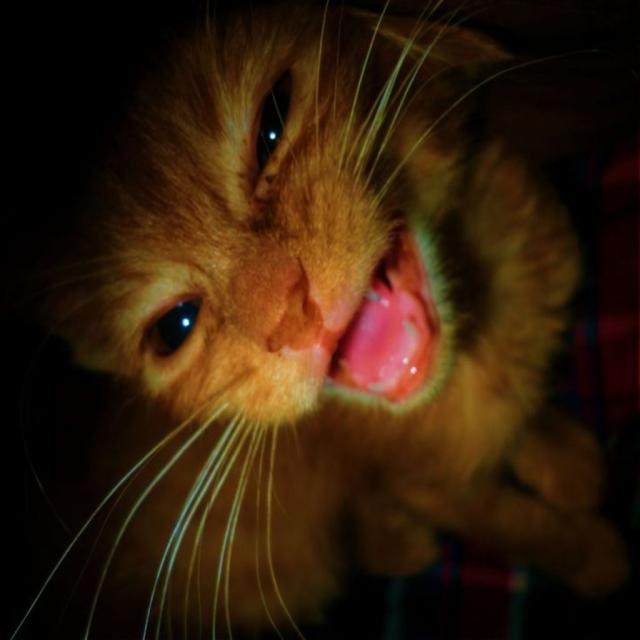Cat: (0, 0, 628, 638)
